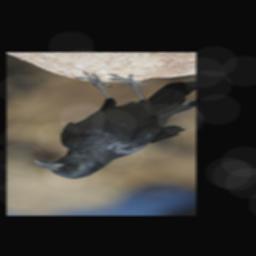Crow: (31, 70, 195, 179)
